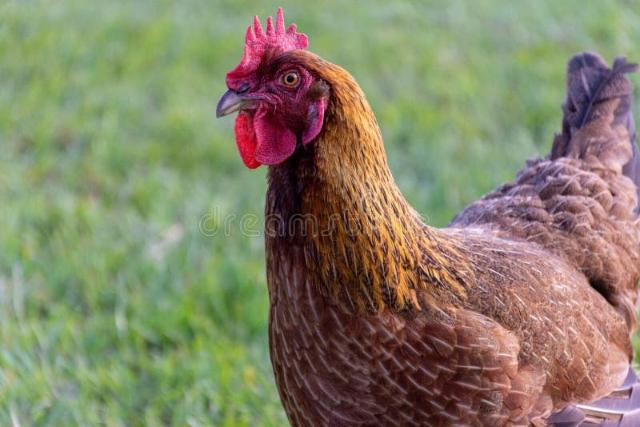Chicken: (215, 6, 639, 427)
